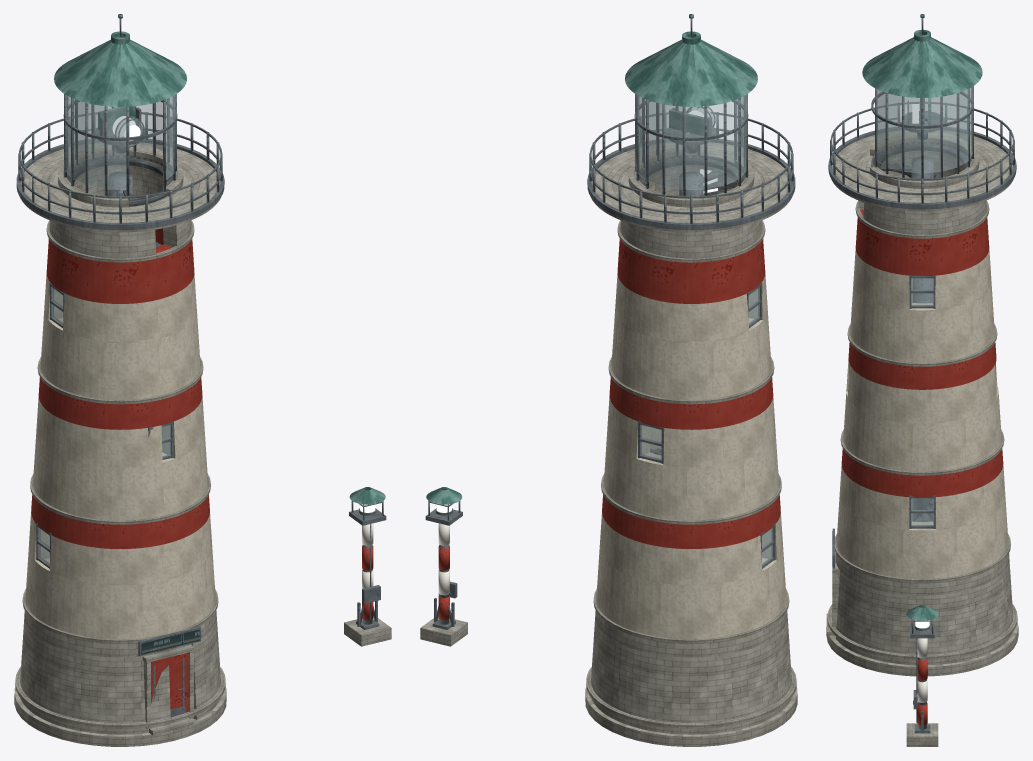
The model's file is PROJECT_Z_Lighthouse_CoastalBeacon_Master.glb.
3 renders of one model, left to right at view 1: azimuth 30°, elevation 25°; view 2: azimuth 150°, elevation 25°; view 3: azimuth 270°, elevation 25°, orthographic. The views are drawn at different scales.
Parts seen in each view (by area): view 1: TOWER_Ground_EntryDoorCutout_00, TOWER_OffWhite01_00, TOWER_OffWhite02_00, TOWER_OffWhite03_00, LANTERN_CopperCanopy, TOWER_StripeC_00, GALLERY_ExternalWalkway, TOWER_Windows_B_ActualVoids_01, TOWER_UpperGalleryDoorCutout_00, TOWER_StripeA_00, TOWER_Windows_A_ActualVoids_02, TOWER_StripeB_00 (+24 smaller); view 2: TOWER_Ground_EntryDoorCutout_00, TOWER_OffWhite01_00, TOWER_OffWhite02_00, TOWER_OffWhite03_00, LANTERN_CopperCanopy, TOWER_StripeC_00, TOWER_Windows_A_ActualVoids_01, TOWER_Windows_C_ActualVoids_01, GALLERY_ExternalWalkway, TOWER_StripeA_00, TOWER_Windows_B_ActualVoids_01, TOWER_StripeB_00 (+24 smaller); view 3: TOWER_Ground_EntryDoorCutout_00, TOWER_OffWhite01_00, TOWER_OffWhite03_00, TOWER_OffWhite02_00, LANTERN_CopperCanopy, TOWER_Windows_B_ActualVoids_00, TOWER_StripeC_00, GALLERY_ExternalWalkway, TOWER_StripeA_00, TOWER_UpperGalleryDoorCutout_00, TOWER_StripeB_00, TOWER_Windows_A_ActualVoids_01 (+34 smaller).
Boxes of the visible parts, x1,y1,x2,y2 form: TOWER_Ground_EntryDoorCutout_00: (20,617,220,734); TOWER_OffWhite01_00: (25,547,215,639); TOWER_OffWhite02_00: (33,432,207,520); TOWER_OffWhite03_00: (40,310,200,399); LANTERN_CopperCanopy: (54,39,186,106); TOWER_StripeC_00: (46,228,194,303); GALLERY_ExternalWalkway: (20,142,220,232); TOWER_Windows_B_ActualVoids_01: (36,397,162,467); TOWER_UpperGalleryDoorCutout_00: (49,168,191,258); TOWER_StripeA_00: (31,494,209,548); TOWER_Windows_A_ActualVoids_02: (49,535,166,585); TOWER_StripeB_00: (38,377,202,429); TOWER_Ground_EntryDoorCutout_00: (591,617,791,734); TOWER_OffWhite01_00: (596,547,786,639); TOWER_OffWhite02_00: (604,427,778,520); TOWER_OffWhite03_00: (611,309,771,399); LANTERN_CopperCanopy: (625,39,757,106); TOWER_StripeC_00: (617,239,765,303); TOWER_Windows_A_ActualVoids_01: (599,513,762,585); TOWER_Windows_C_ActualVoids_01: (615,273,748,341); GALLERY_ExternalWalkway: (591,142,791,232); TOWER_StripeA_00: (602,494,780,548); TOWER_Windows_B_ActualVoids_01: (663,397,775,467); TOWER_StripeB_00: (609,377,773,429); TOWER_Ground_EntryDoorCutout_00: (831,559,1013,665); TOWER_OffWhite01_00: (836,497,1008,578); TOWER_OffWhite03_00: (850,281,994,362); TOWER_OffWhite02_00: (843,386,1001,471); LANTERN_CopperCanopy: (862,37,982,97); TOWER_Windows_B_ActualVoids_00: (847,364,997,423); TOWER_StripeC_00: (855,209,989,275); GALLERY_ExternalWalkway: (831,130,1013,211); TOWER_StripeA_00: (841,448,1003,497); TOWER_UpperGalleryDoorCutout_00: (858,154,986,234); TOWER_StripeB_00: (848,342,996,389); TOWER_Windows_A_ActualVoids_01: (932,465,1005,529).
Bounding box in the file's own units: 12.92 × 23.91 × 6.7.
Materials: 11 (7 with a texture image).
